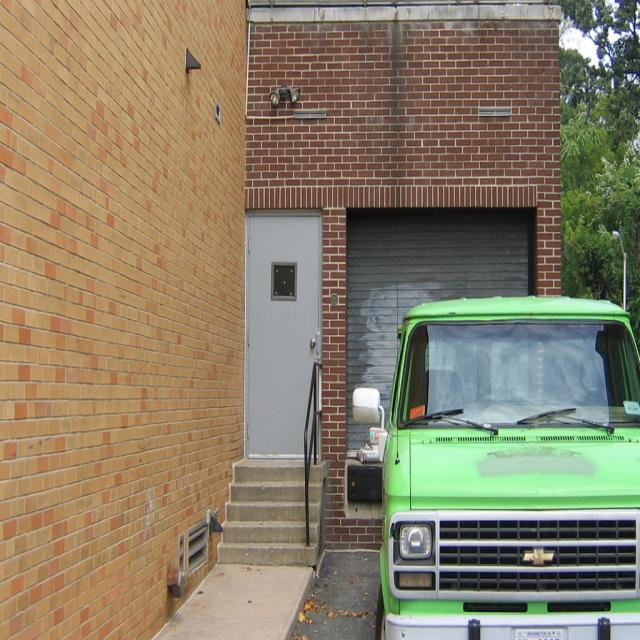car: (373, 290, 626, 629)
